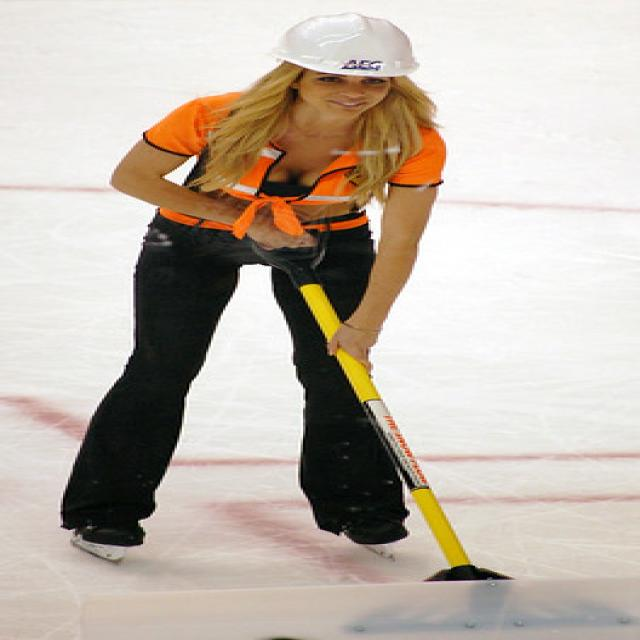Reflective-Jacket: (116, 94, 448, 244)
Safety-Helmet: (262, 8, 426, 80)
